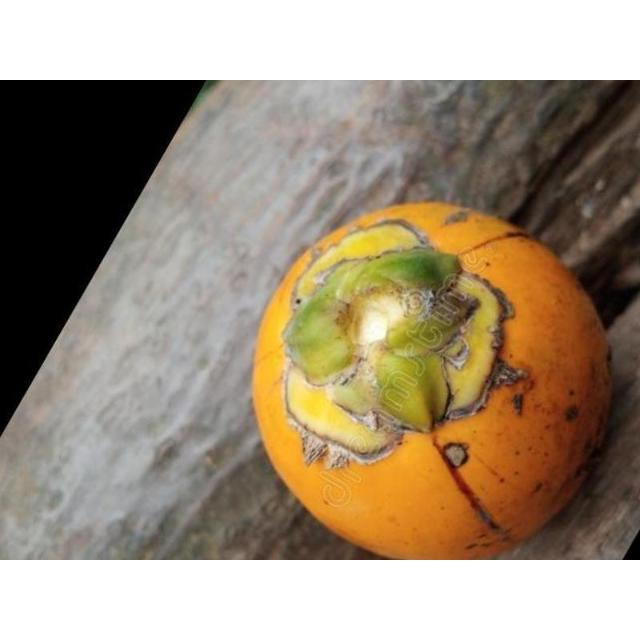good: (252, 203, 611, 559)
